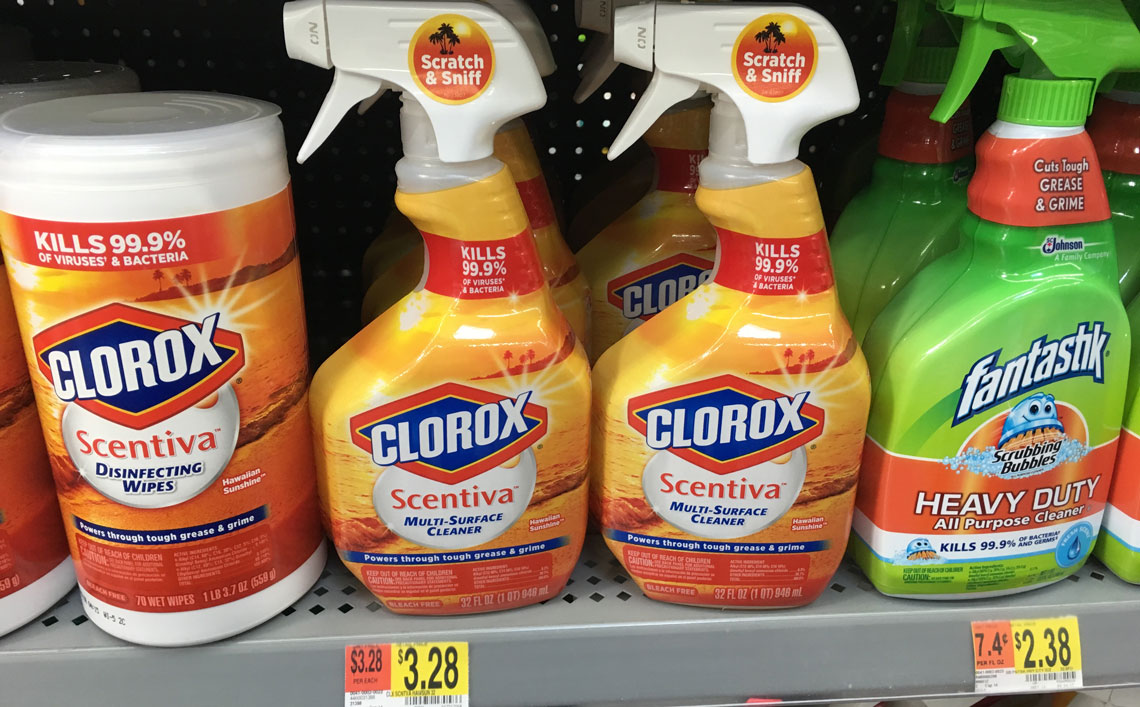Wipes: (1, 79, 332, 654)
